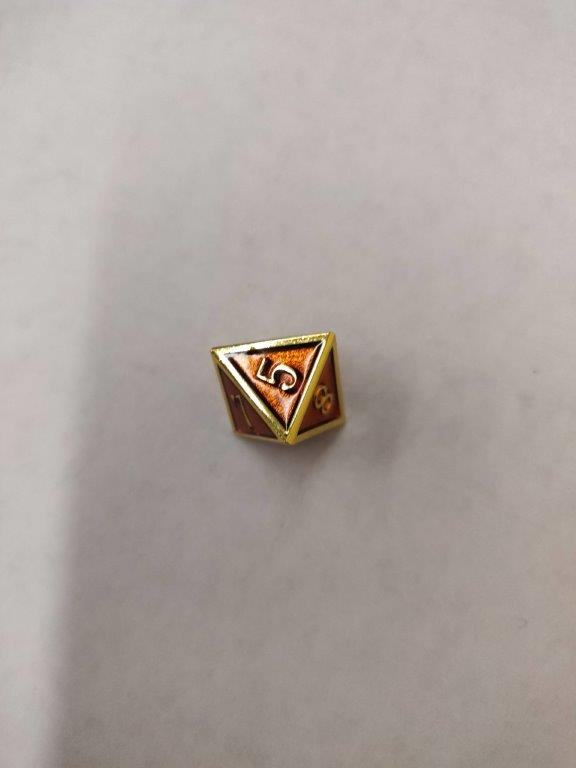d8-5: (207, 328, 350, 448)
